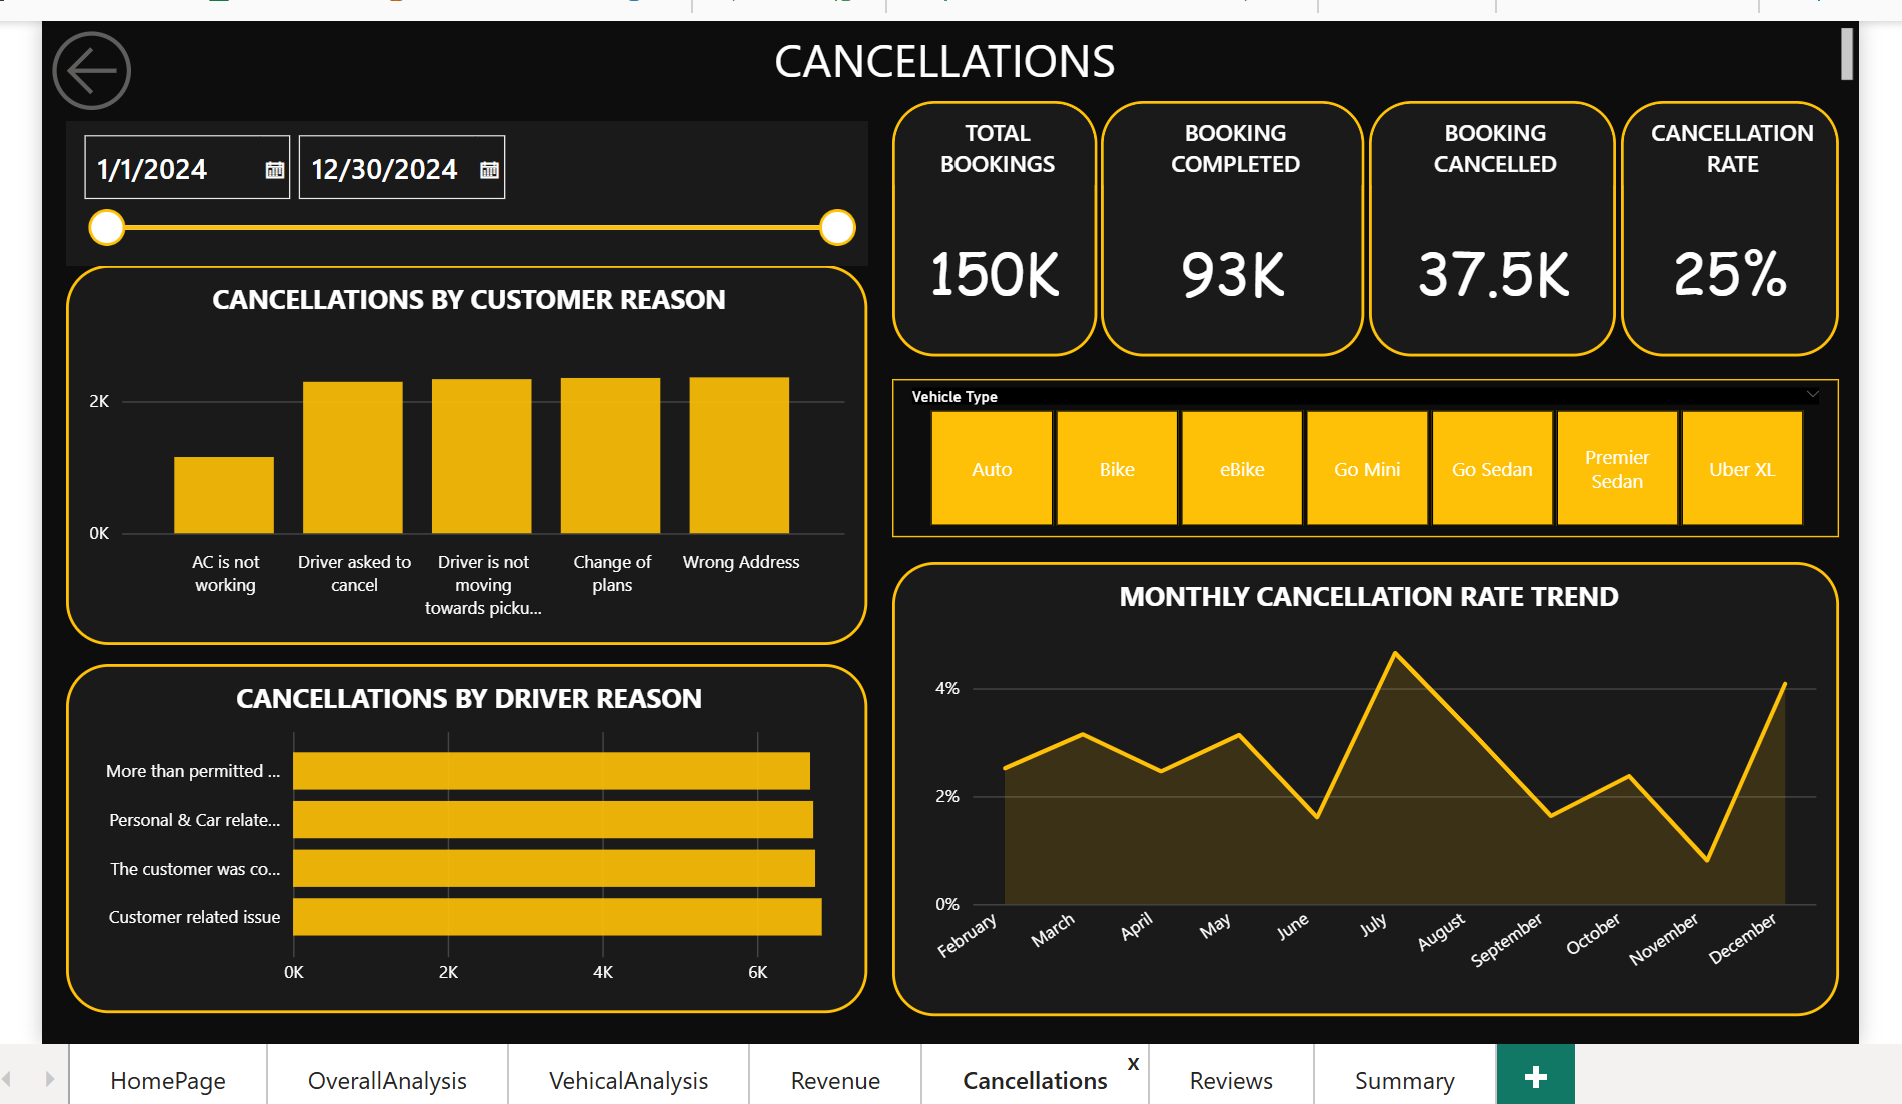

What the dashboard file says about the page in this screenshot:
{"tool":"powerbi","page":{"name":"Cancellations","canvas":[1280,720],"ordinal":4},"visuals":[{"type":"clusteredColumnChart","title":"CANCELLATIONS BY CUSTOMER REASON","fields":{"Category":["rideBookings.Reason for cancelling by Customer"],"Y":["CountNonNull(rideBookings.Cancelled Rides by Customer)"]},"box":[17,172.3,564.3,267],"z":0},{"type":"clusteredBarChart","title":"CANCELLATIONS BY DRIVER REASON","fields":{"Category":["rideBookings.Driver Cancellation Reason"],"Y":["CountNonNull(rideBookings.Cancelled Rides by Driver)"]},"box":[17,452.5,564.3,246.2],"z":1000},{"type":"slicer","fields":{"Values":["rideBookings.Date"]},"box":[17,70.1,564.3,102.2],"z":2000},{"type":"cardVisual","title":"CANCELLATION RATE","fields":{"Data":["rideBookings.CancelledPercentage"]},"box":[1111.5,56.8,153.4,179.9],"z":3000},{"type":"cardVisual","title":"BOOKING COMPLETED","fields":{"Data":["CountNonNull(rideBookings.Booking ID)"]},"box":[745.4,56.8,185.6,179.9],"z":4000},{"type":"cardVisual","title":"BOOKING CANCELLED","fields":{"Data":["CountNonNull(rideBookings.Booking ID)"]},"box":[934.1,56.8,174.2,179.9],"z":5000},{"type":"cardVisual","title":"TOTAL BOOKINGS","fields":{"Data":["rideBookings.TotalBookings"]},"box":[598.3,56.8,143.9,179.9],"z":6000},{"type":"actionButton","box":[0,0,72,70.1],"z":7000},{"type":"textbox","box":[0,0,1280,56.8],"z":8000},{"type":"lineChart","title":"MONTHLY CANCELLATION RATE TREND","fields":{"Category":["rideBookings.Date.Variation.Date Hierarchy.Month"],"Y":["rideBookings.Customer Retain Rate"]},"box":[598.3,380.6,666.5,320],"z":9000},{"type":"slicer","fields":{"Values":["rideBookings.Vehicle Type"]},"box":[598.3,251.8,666.5,111.7],"z":10000}]}

Visuals, with their boxes in screenshot pixels (x1, y1, x2, y2):
"CANCELLATIONS BY CUSTOMER REASON" clusteredColumnChart: {"x1": 35, "y1": 267, "x2": 862, "y2": 659}
"CANCELLATIONS BY DRIVER REASON" clusteredBarChart: {"x1": 35, "y1": 678, "x2": 862, "y2": 1039}
slicer - rideBookings.Date: {"x1": 35, "y1": 118, "x2": 862, "y2": 267}
"CANCELLATION RATE" cardVisual: {"x1": 1639, "y1": 98, "x2": 1863, "y2": 362}
"BOOKING COMPLETED" cardVisual: {"x1": 1102, "y1": 98, "x2": 1374, "y2": 362}
"BOOKING CANCELLED" cardVisual: {"x1": 1379, "y1": 98, "x2": 1634, "y2": 362}
"TOTAL BOOKINGS" cardVisual: {"x1": 887, "y1": 98, "x2": 1098, "y2": 362}
actionButton: {"x1": 10, "y1": 15, "x2": 115, "y2": 118}
textbox: {"x1": 10, "y1": 15, "x2": 1886, "y2": 98}
"MONTHLY CANCELLATION RATE TREND" lineChart: {"x1": 887, "y1": 573, "x2": 1863, "y2": 1042}
slicer - rideBookings.Vehicle Type: {"x1": 887, "y1": 384, "x2": 1863, "y2": 548}
